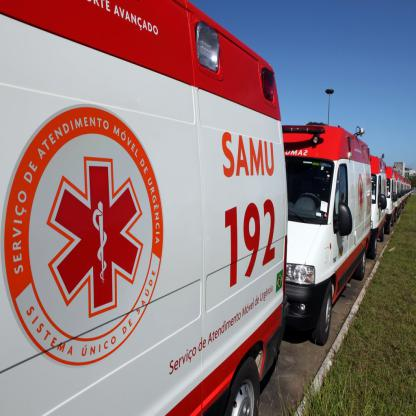Ambulance: (0, 0, 289, 415), (288, 126, 374, 346), (372, 152, 388, 242), (387, 163, 396, 230)
